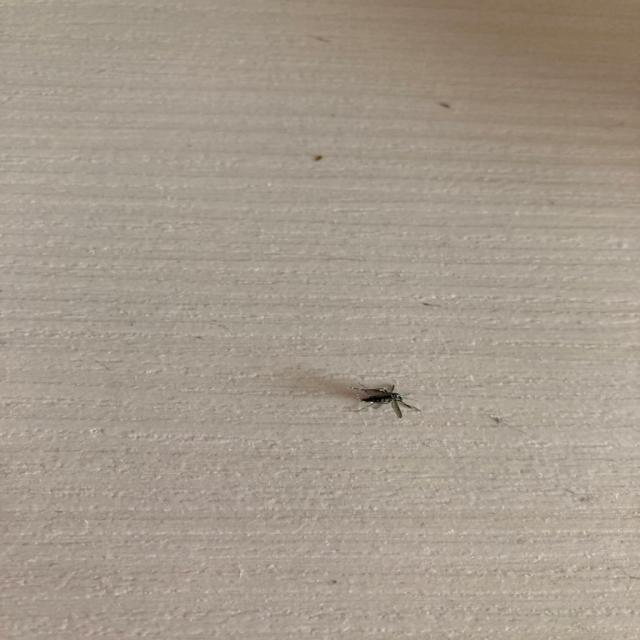albopictus: (342, 376, 422, 423)
